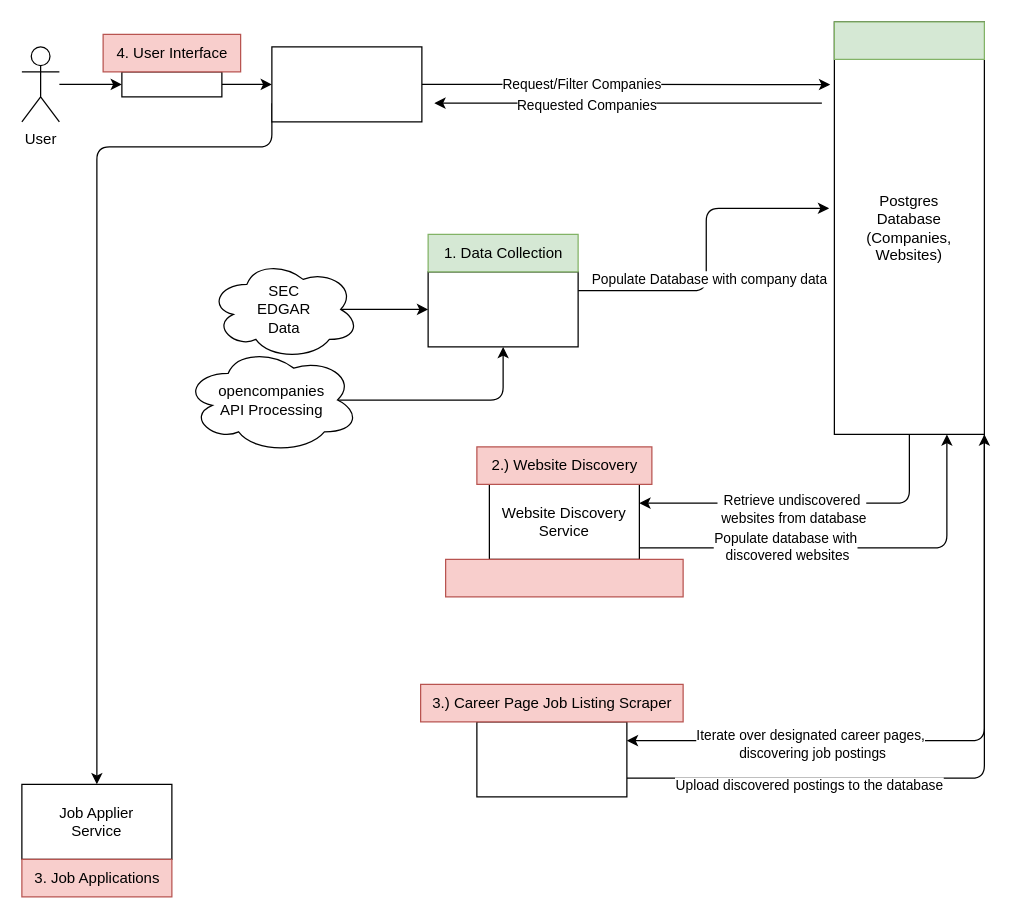
This 1016x919 diagram has some shape labels left out. The centre of each missing label's shape, as x and y in pixels:
1.5) Data Storage: (x=908, y=40)
2.5.) Career Page Designation: (x=563, y=577)
Company Data Scraper: (x=502, y=309)
Job Posting Scraper Service: (x=551, y=759)
Web Interface: (x=171, y=84)
Web Service Handler: (x=346, y=84)
